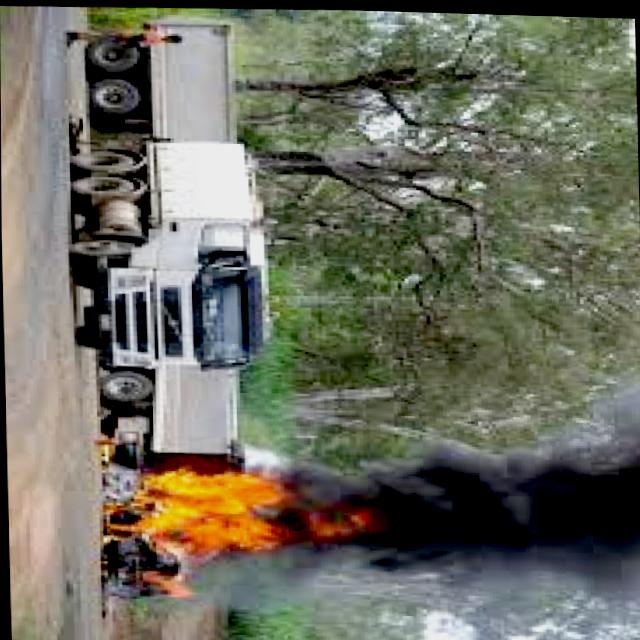Fire: (92, 458, 296, 610)
Smoke: (234, 420, 640, 608)
